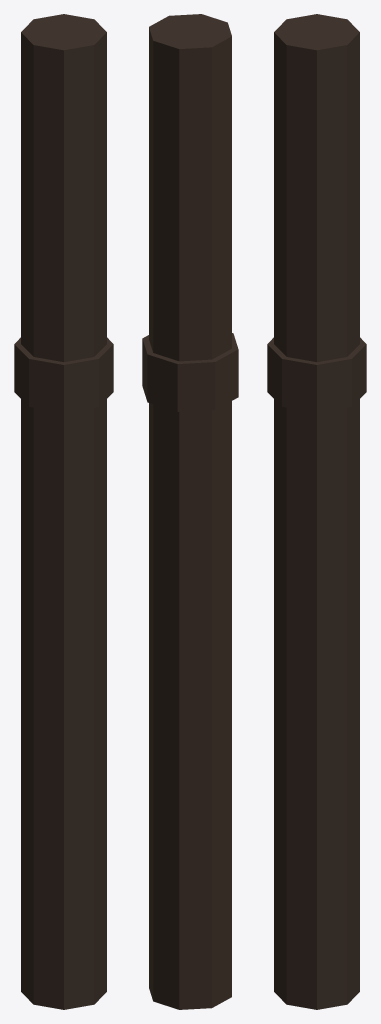
File: pier_piling.fbx
3 renders of one model, left to right at view 1: azimuth 90°, elevation 25°; view 2: azimuth 210°, elevation 25°; view 3: azimuth 270°, elevation 25°, orthographic.
Visible parts, largest first — view 1: pier_piling; view 2: pier_piling; view 3: pier_piling.
Part boxes in pixels (<box>): pier_piling: <box>14,14,113,1009</box>; pier_piling: <box>142,14,238,1009</box>; pier_piling: <box>267,14,366,1009</box>.
Bounding box in the file's own units: 150 × 1600 × 150.
